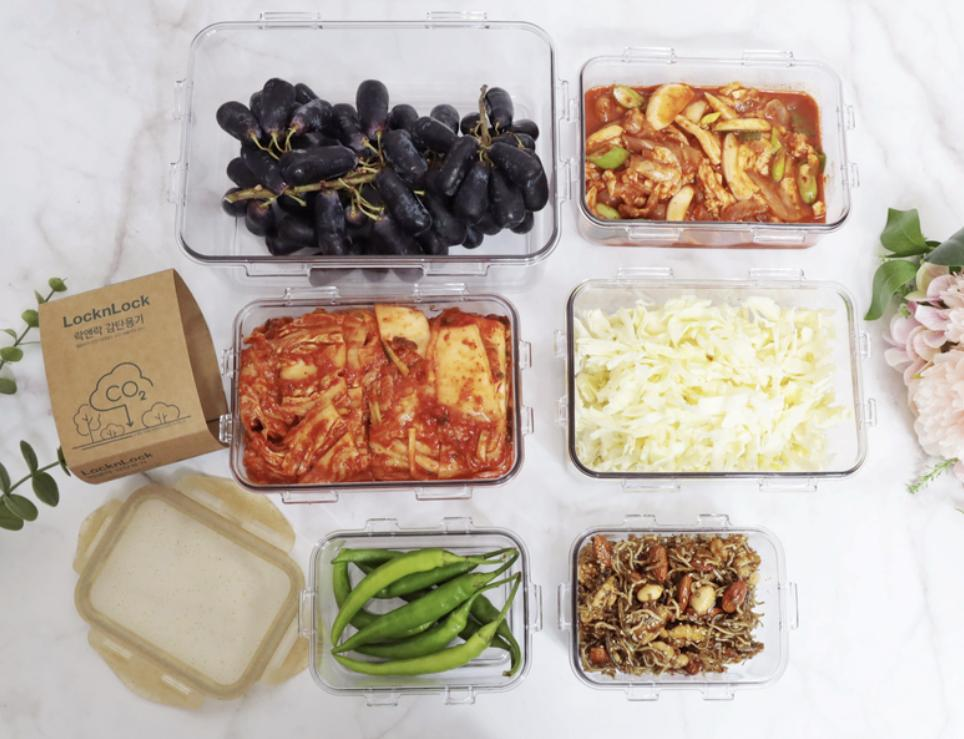Lunch Box: (170, 12, 573, 283), (74, 477, 540, 707), (555, 268, 875, 491), (220, 285, 532, 502), (573, 48, 857, 247), (558, 514, 797, 699)
